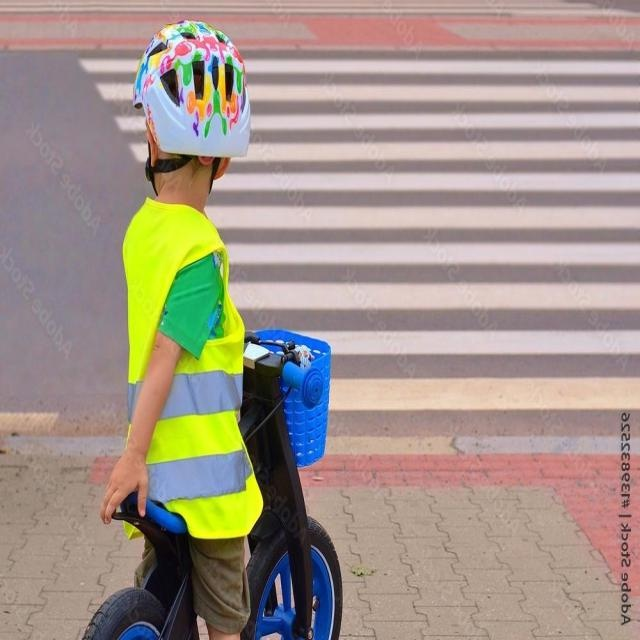Con_Chaleco: (126, 204, 250, 530)
